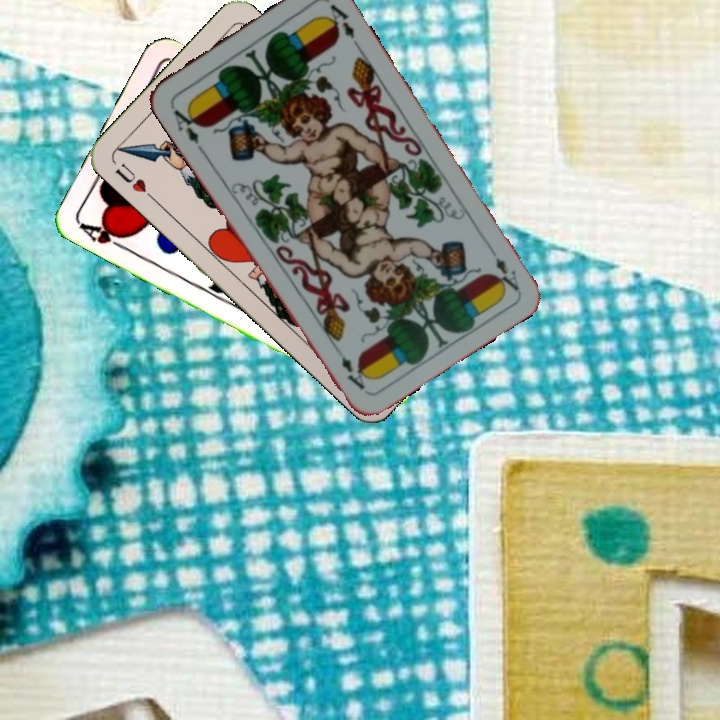EA: (166, 101, 206, 154), (483, 241, 522, 294)
HA: (76, 218, 132, 254)
HU: (111, 159, 157, 203)
